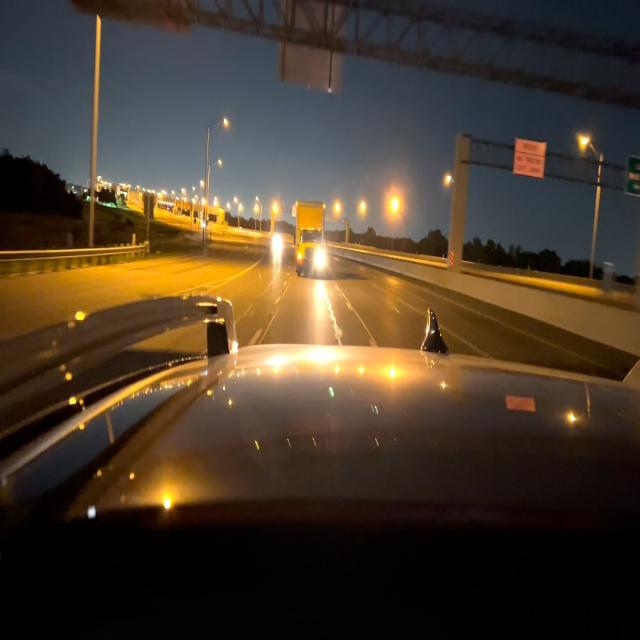back-of-sign: (280, 0, 341, 93)
